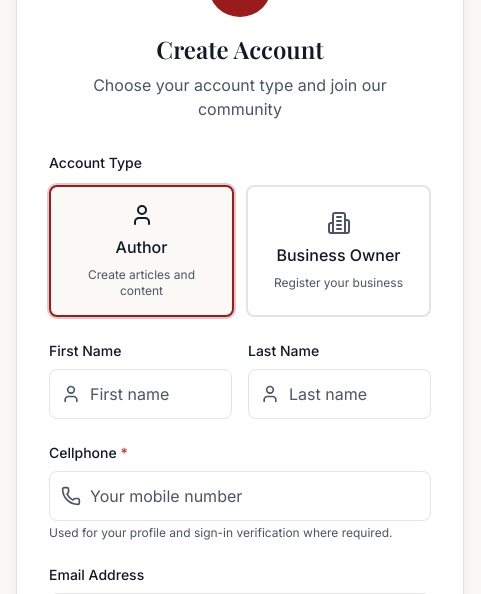
Test: SignUpForm › shows already-linked message for author accounts
Type "John" into the field labelled "First Name". click: (140, 394)
box: [49, 369, 232, 419]
Type "Doe" into the field labelled "Last Name". click: (340, 394)
box: [248, 369, 431, 419]
Type "5551234567" into the field labelled "Cellphone *". click: (240, 496)
box: [49, 471, 431, 521]
(page scrolled)
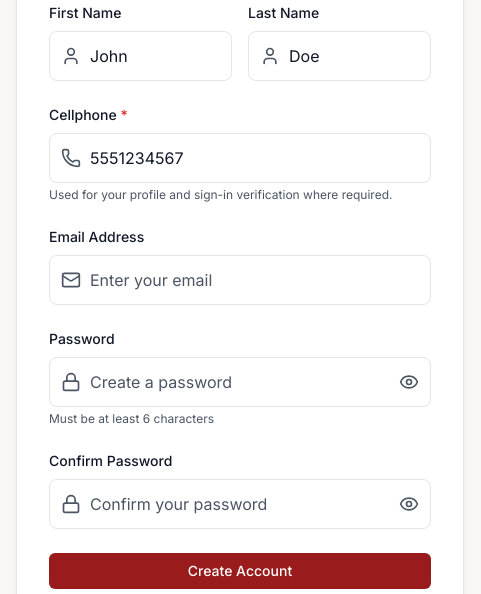
Type "test@example.com" into the field labelled "Email Address". click: (240, 280)
box: [49, 255, 431, 305]
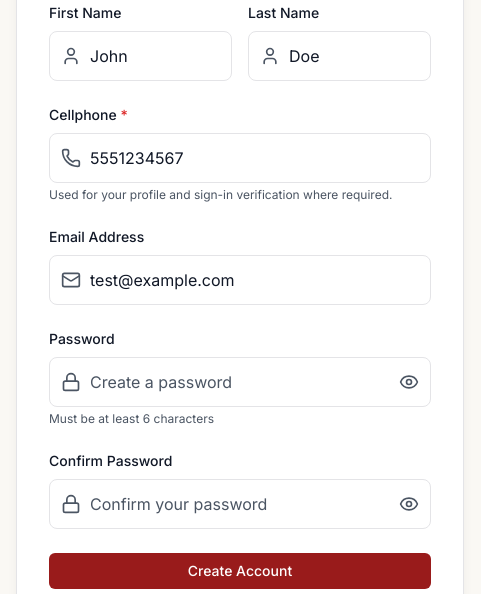
Type "password123" into the password field labelled "Password". click: (240, 382)
box: [49, 357, 431, 407]
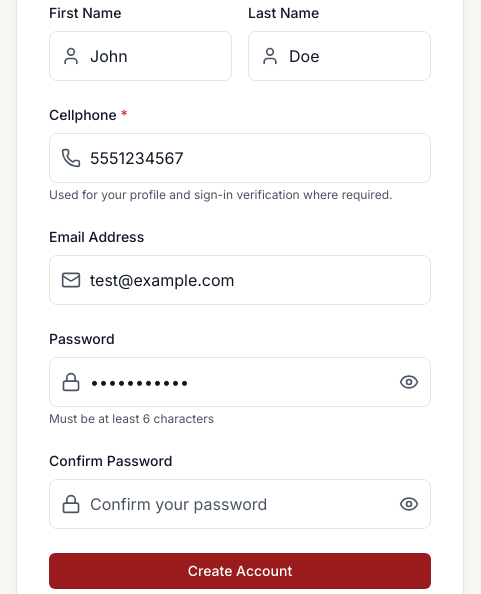
Type "password123" into the password field labelled "Confirm Password". click: (240, 504)
box: [49, 479, 431, 529]
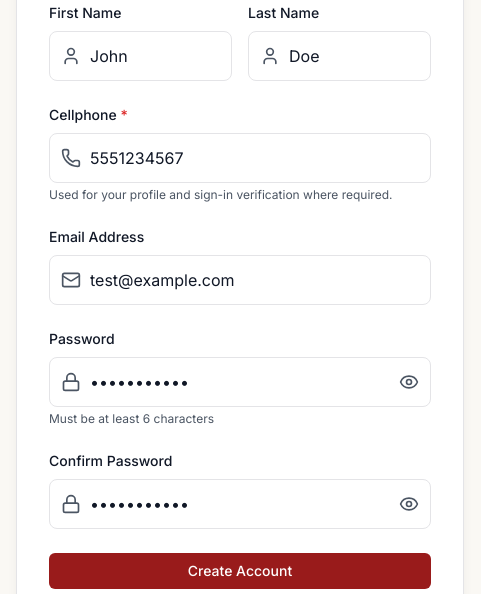
Replace the text in the field labelled "Email Address" with "linked@test.com". click: (240, 280)
box: [49, 255, 431, 305]
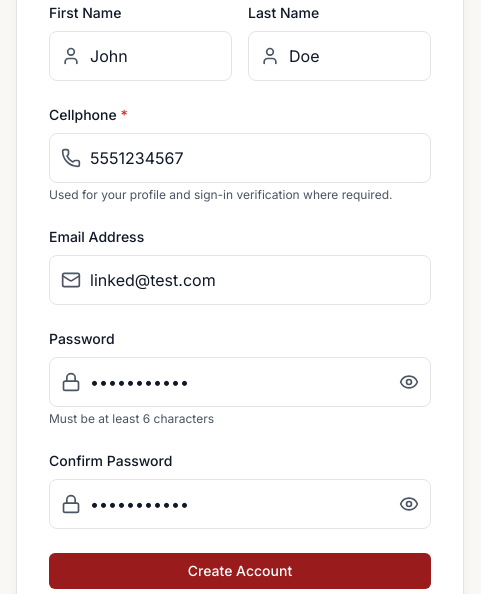
Leave the field labelled "Email Address", box [49, 255, 431, 305]
(page scrolled)
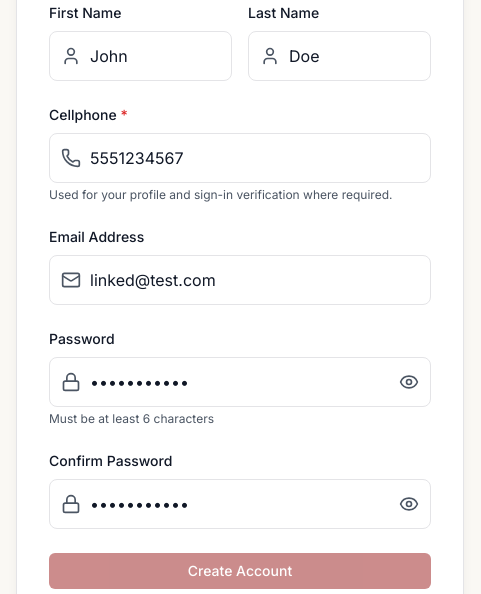
Expected: the button "Create Account" is disabled, [49, 553, 431, 589]
